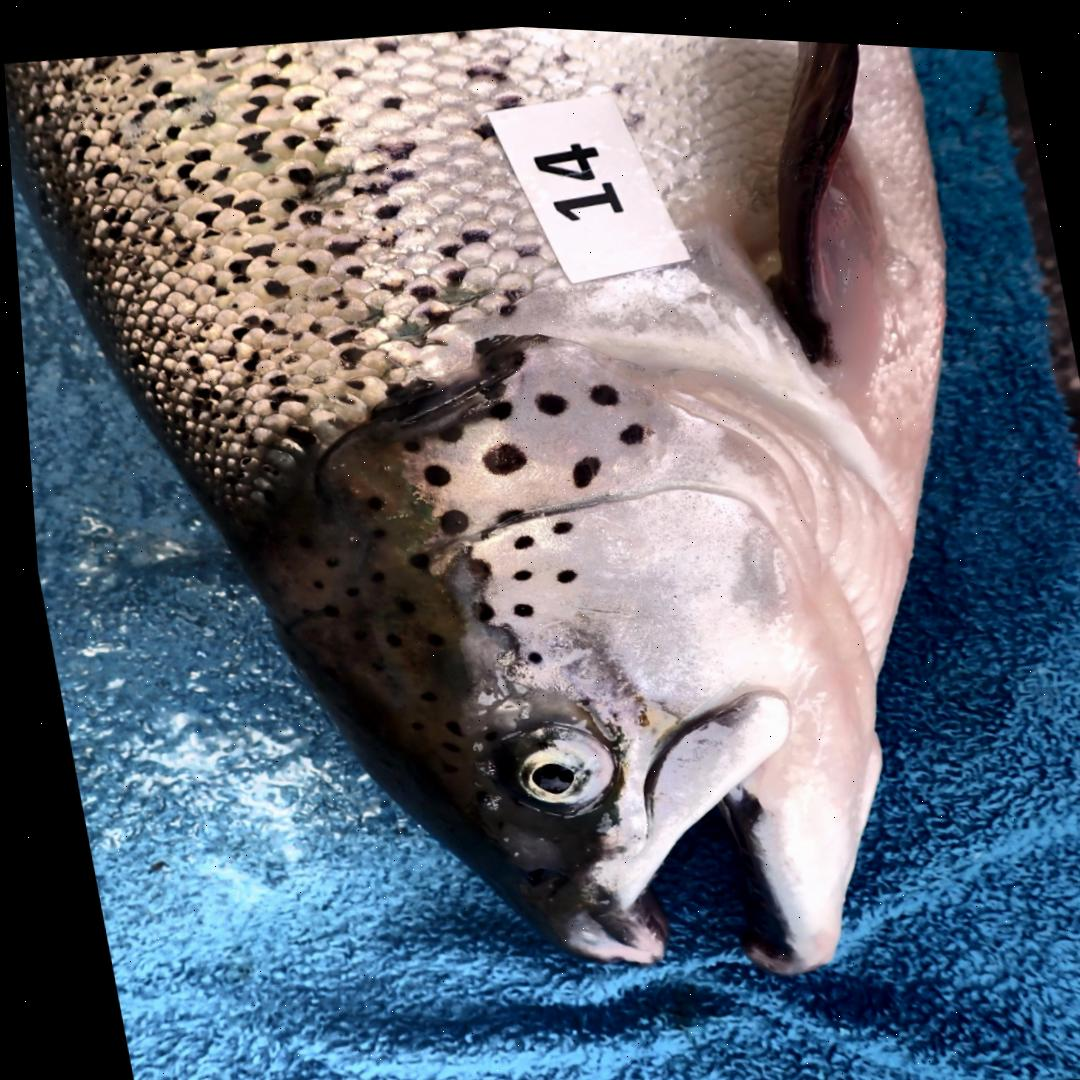spot: (477, 436, 521, 469), (564, 449, 594, 480), (432, 503, 462, 529), (457, 551, 483, 580), (529, 386, 562, 408), (583, 377, 614, 399), (611, 416, 638, 437), (431, 416, 458, 437), (417, 460, 445, 480), (473, 376, 501, 396), (487, 502, 519, 518), (483, 394, 507, 413), (465, 595, 486, 616), (506, 529, 527, 543), (545, 514, 565, 527), (506, 596, 524, 610), (548, 563, 568, 575), (517, 645, 533, 658), (506, 563, 524, 574), (566, 691, 580, 700)
